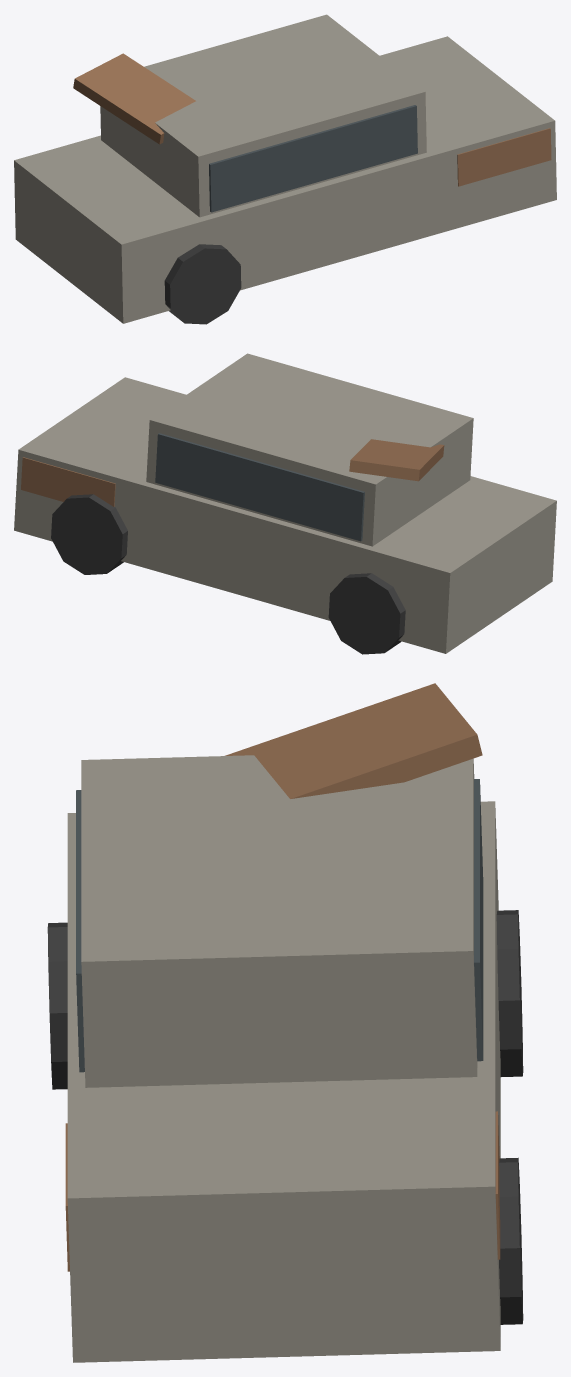
The model's file is obs_wreck_car.glb.
3 views of the same model, one above another, from view 1: azimuth 30°, elevation 25°; view 2: azimuth 150°, elevation 25°; view 3: azimuth 270°, elevation 25° (orthographic). The views are drawn at different scales.
Parts seen in each view (by area): view 1: obs_wreck_car; view 2: obs_wreck_car; view 3: obs_wreck_car.
Part boxes in pixels (bbox=[...]): obs_wreck_car: bbox=[14, 14, 556, 324]; obs_wreck_car: bbox=[14, 353, 556, 654]; obs_wreck_car: bbox=[47, 683, 523, 1362].
Size of the model in its own units: 4.23 by 1.73 by 2.
